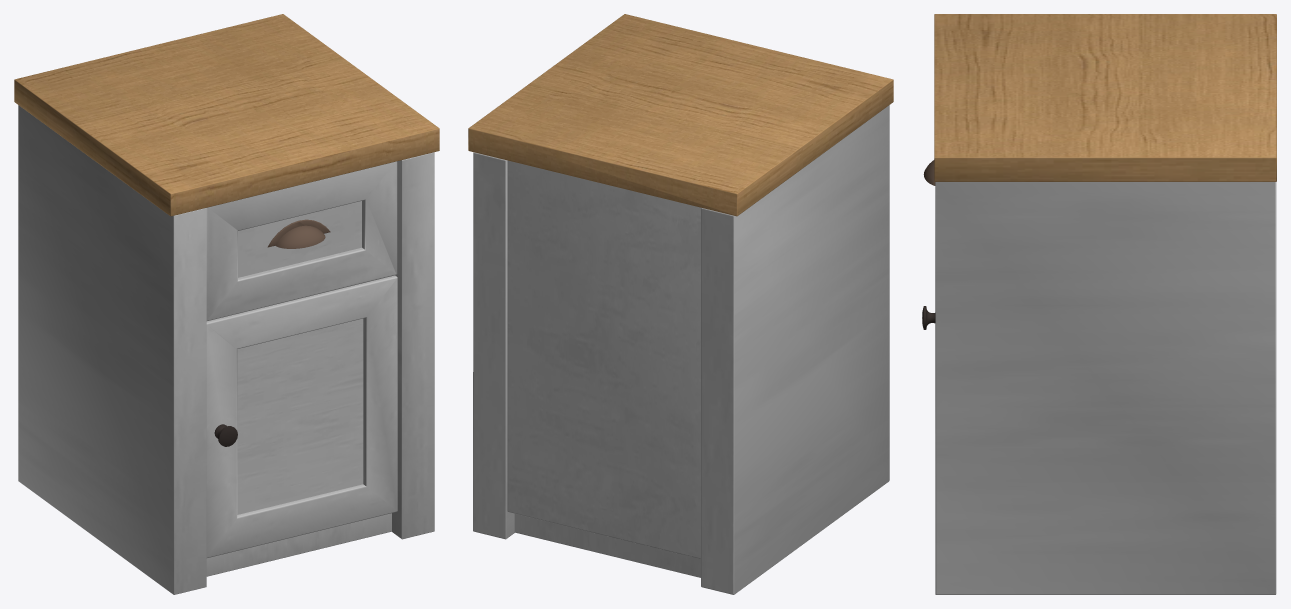
3 renders of one model, left to right at view 1: azimuth 30°, elevation 25°; view 2: azimuth 150°, elevation 25°; view 3: azimuth 270°, elevation 25°, orthographic. The views are drawn at different scales.
Parts seen in each view (by area): view 1: Object_89, Object_90, Object_91; view 2: Object_89, Object_90; view 3: Object_89, Object_90.
Part boxes in pixels (<box>): Object_89: <box>18,105,434,594</box>; Object_90: <box>14,14,439,216</box>; Object_91: <box>267,219,330,248</box>; Object_89: <box>473,105,889,594</box>; Object_90: <box>468,14,893,216</box>; Object_89: <box>935,182,1276,594</box>; Object_90: <box>934,14,1276,181</box>.
Size of the model in its own units: 0.4128 by 0.5899 by 0.4306.
4 materials, 2 textured.
